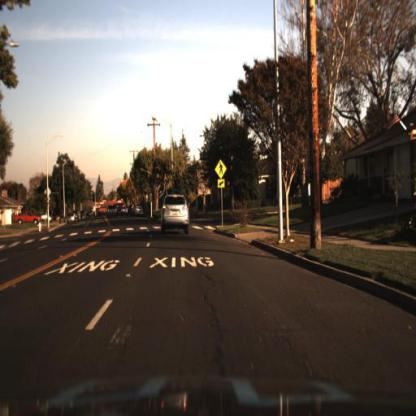car: (160, 194, 191, 234), (12, 210, 39, 226), (107, 201, 120, 219)
